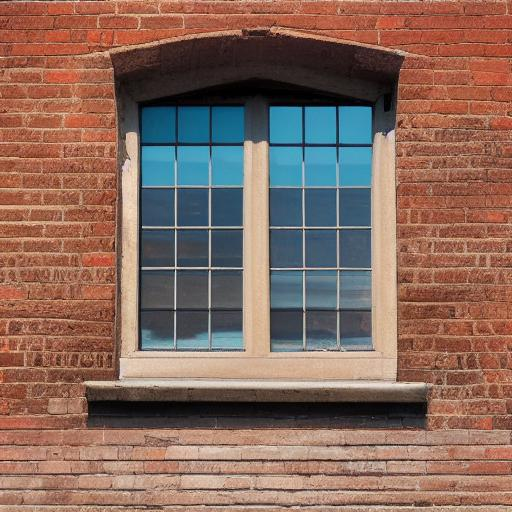Window: (84, 24, 430, 409)
